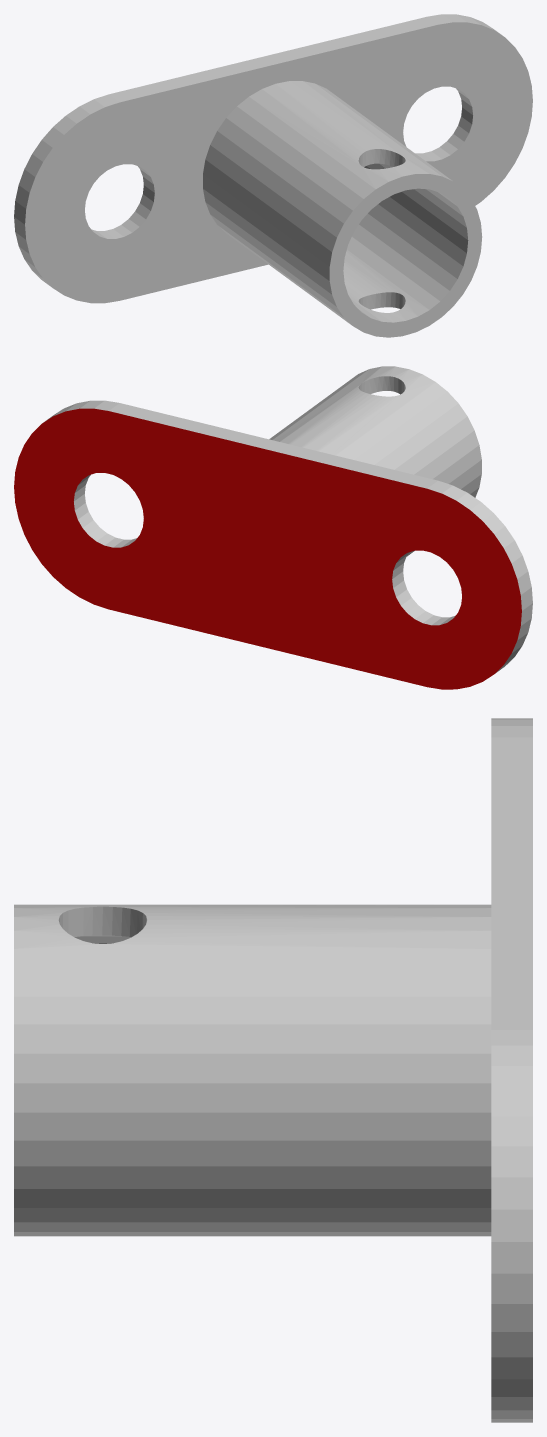
File: Encaixe_coluna_stp_6.obj
The picture shows the model from 3 angles, top to bottom: view 1: azimuth 30°, elevation 25°; view 2: azimuth 150°, elevation 25°; view 3: azimuth 270°, elevation 25°; orthographic projection. The views are drawn at different scales.
Visible parts, largest first — view 1: Object1; view 2: Object1; view 3: Object1.
Boxes of the visible parts, box(x1,y1,x2,y2) form: Object1: box(14, 14, 532, 337); Object1: box(14, 366, 532, 689); Object1: box(14, 718, 532, 1422).
Size of the model in its own units: 79.79 by 29.79 by 37.5.
